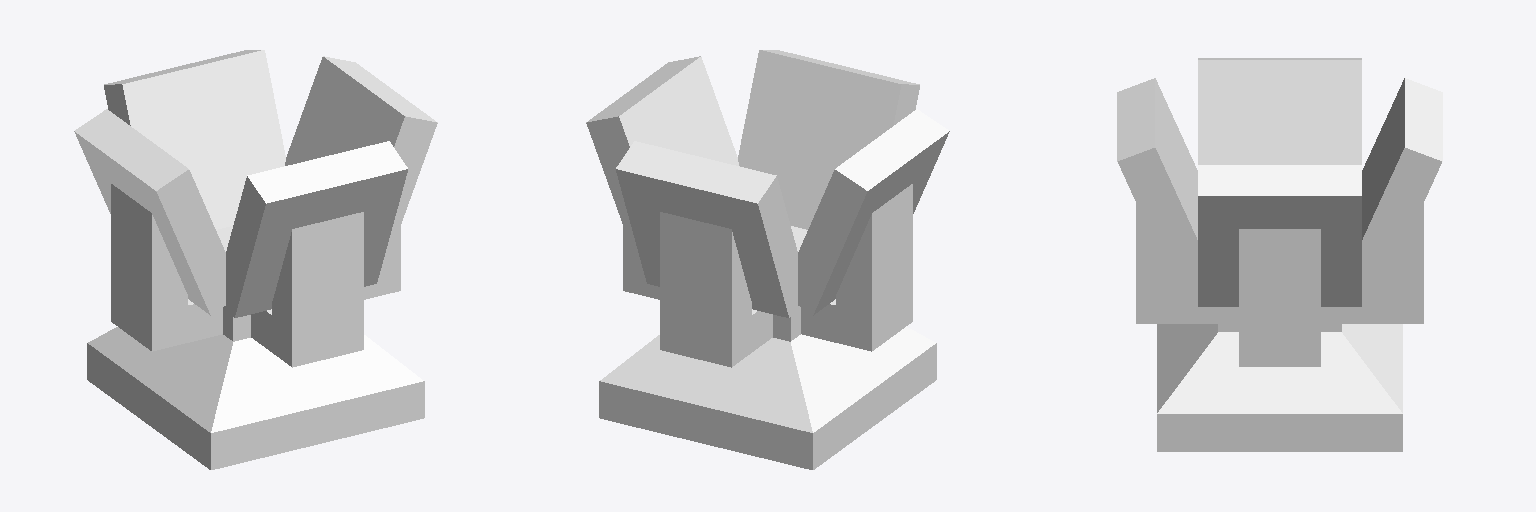
Rendered from rift_mover_input.obj.
3 views of the same model, side by side, from view 1: azimuth 30°, elevation 25°; view 2: azimuth 150°, elevation 25°; view 3: azimuth 270°, elevation 25° (orthographic).
Visible parts, largest first — view 1: Arms_Cube.006, Base_Cube; view 2: Arms_Cube.006, Base_Cube; view 3: Arms_Cube.006, Base_Cube.
Boxes of the visible parts, x1,y1,x2,y2 form: Arms_Cube.006: [74, 50, 437, 367]; Base_Cube: [87, 246, 424, 469]; Arms_Cube.006: [586, 50, 949, 367]; Base_Cube: [599, 246, 936, 469]; Arms_Cube.006: [1117, 58, 1442, 366]; Base_Cube: [1157, 307, 1402, 451].
Bounding box in the file's own units: 0.9887 × 0.9619 × 0.9887.